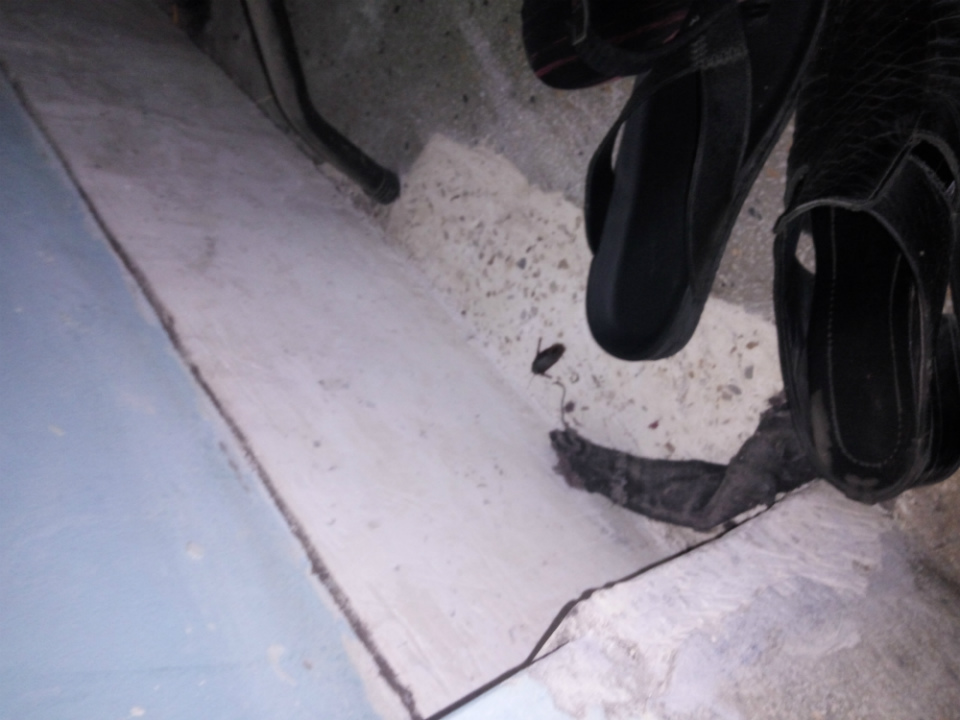cockroach: (494, 345, 601, 389)
